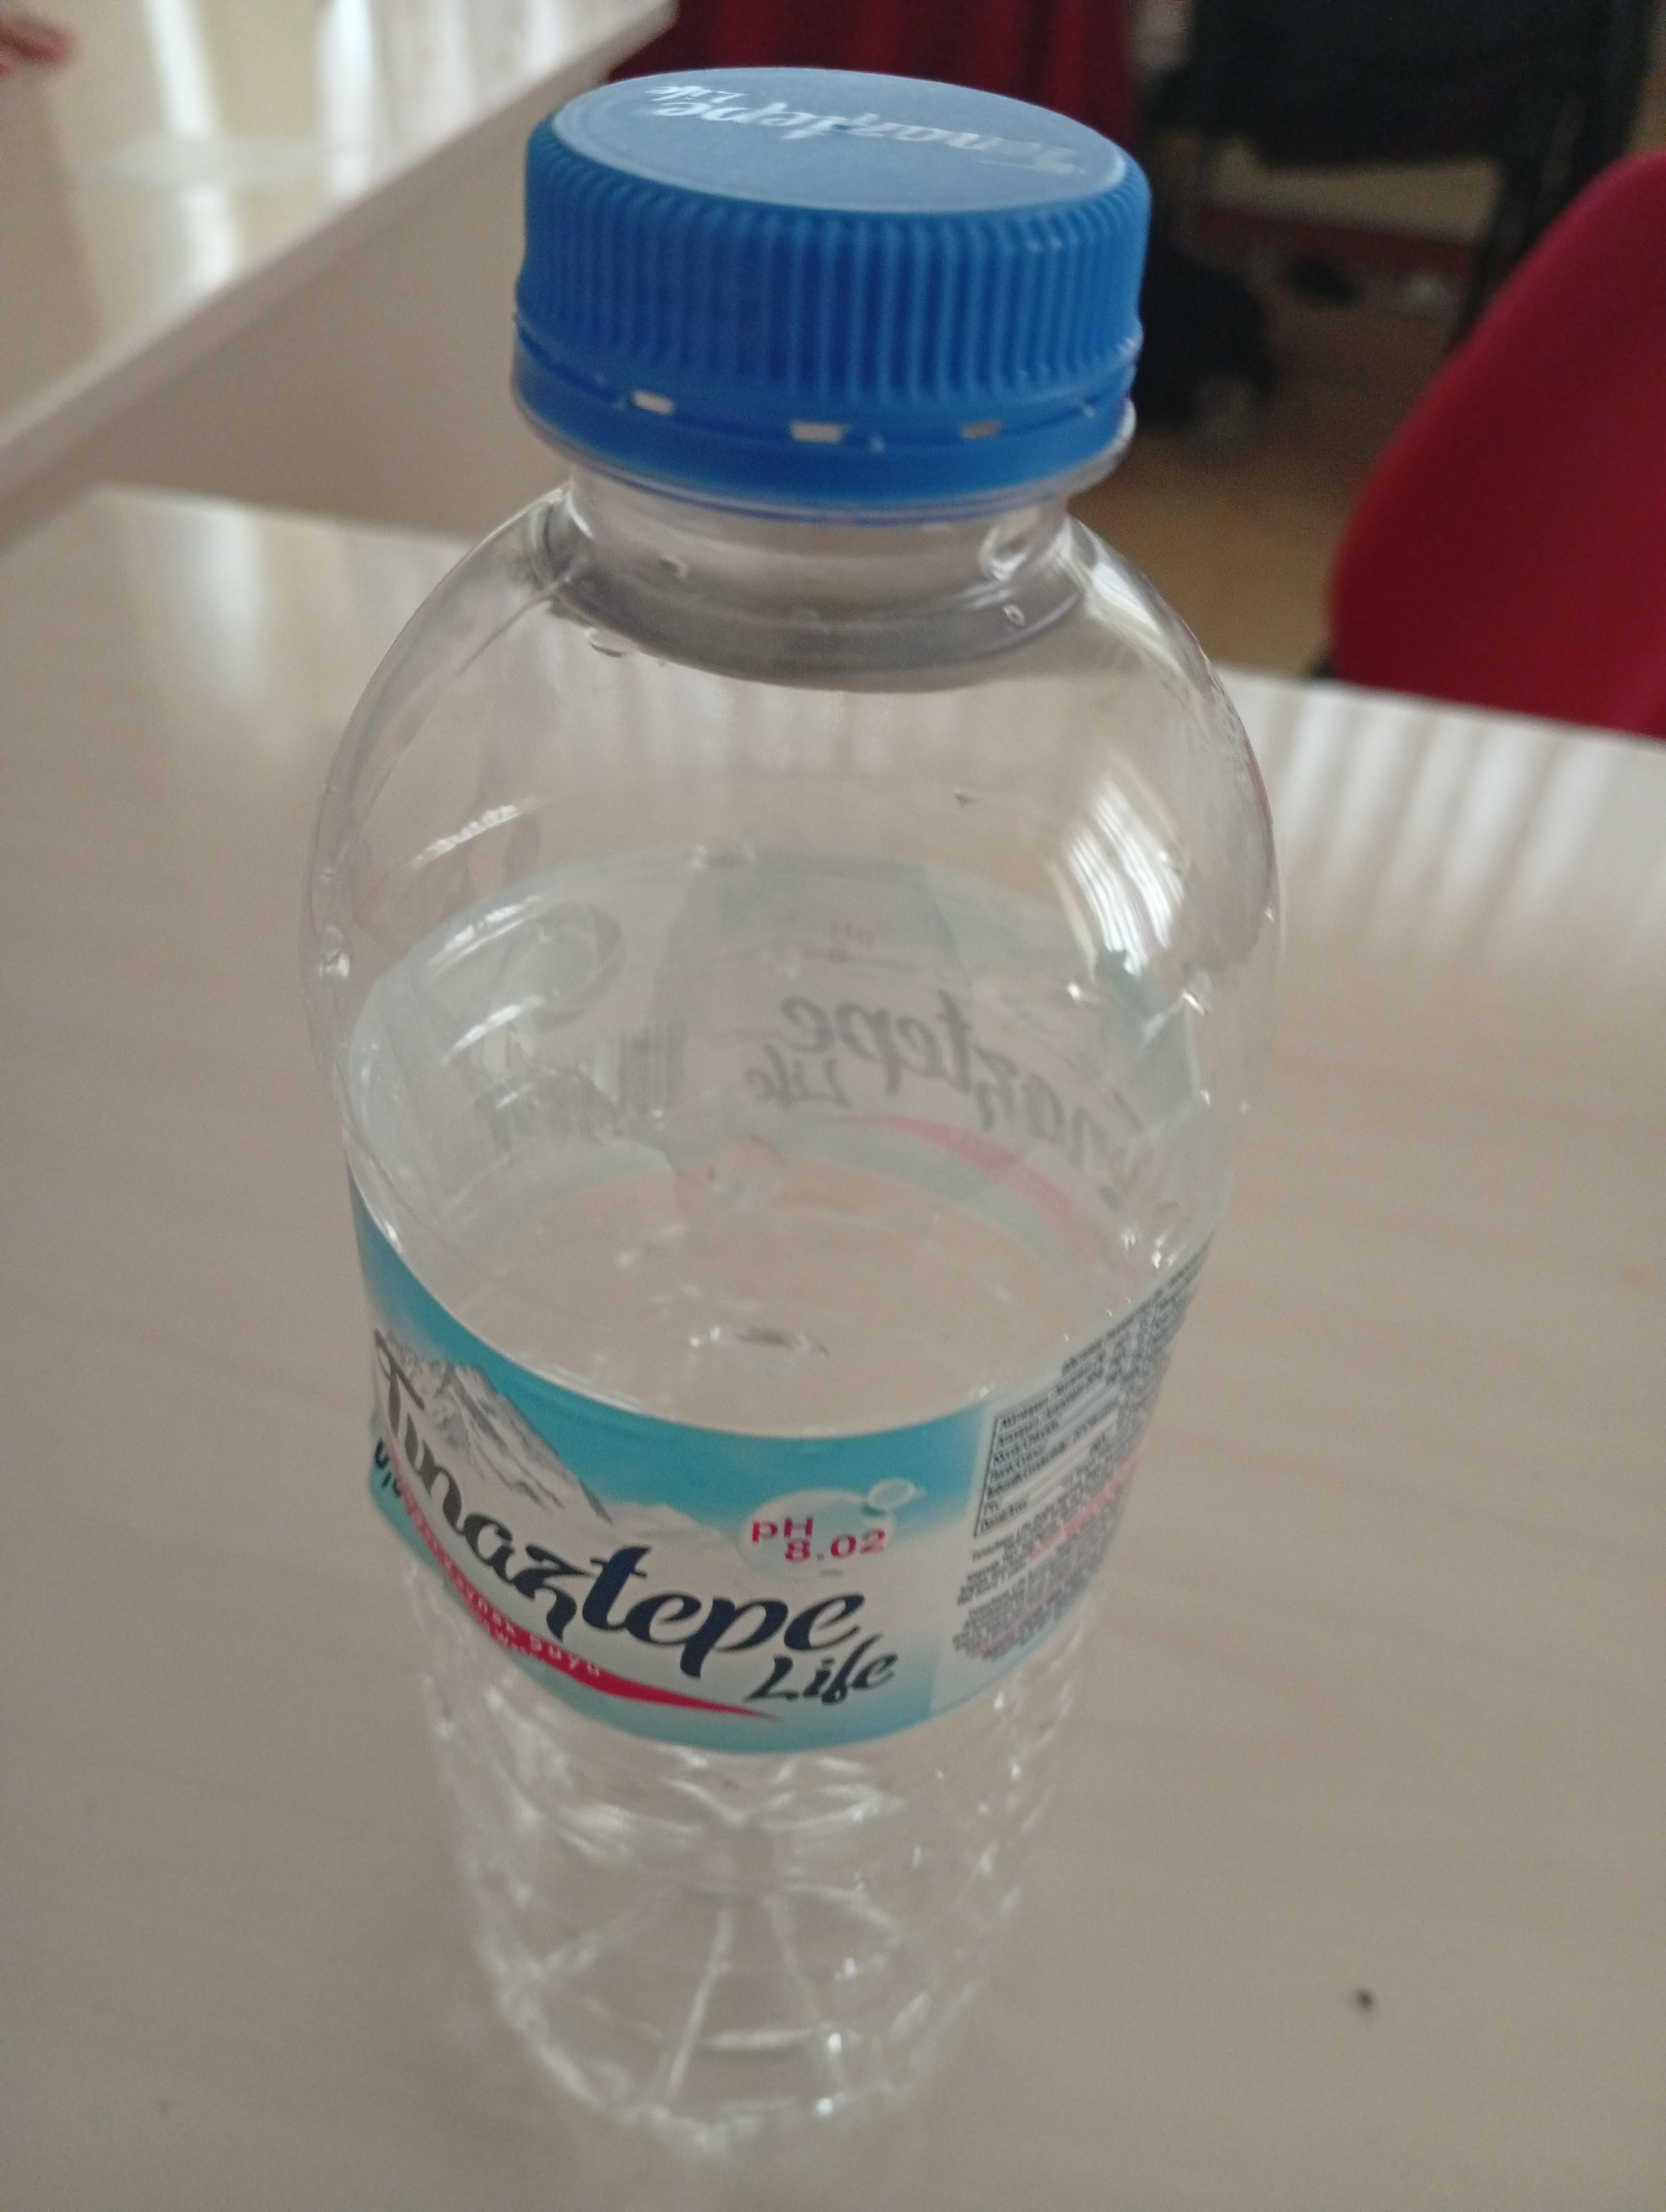etiketli: (291, 47, 1267, 2203)
